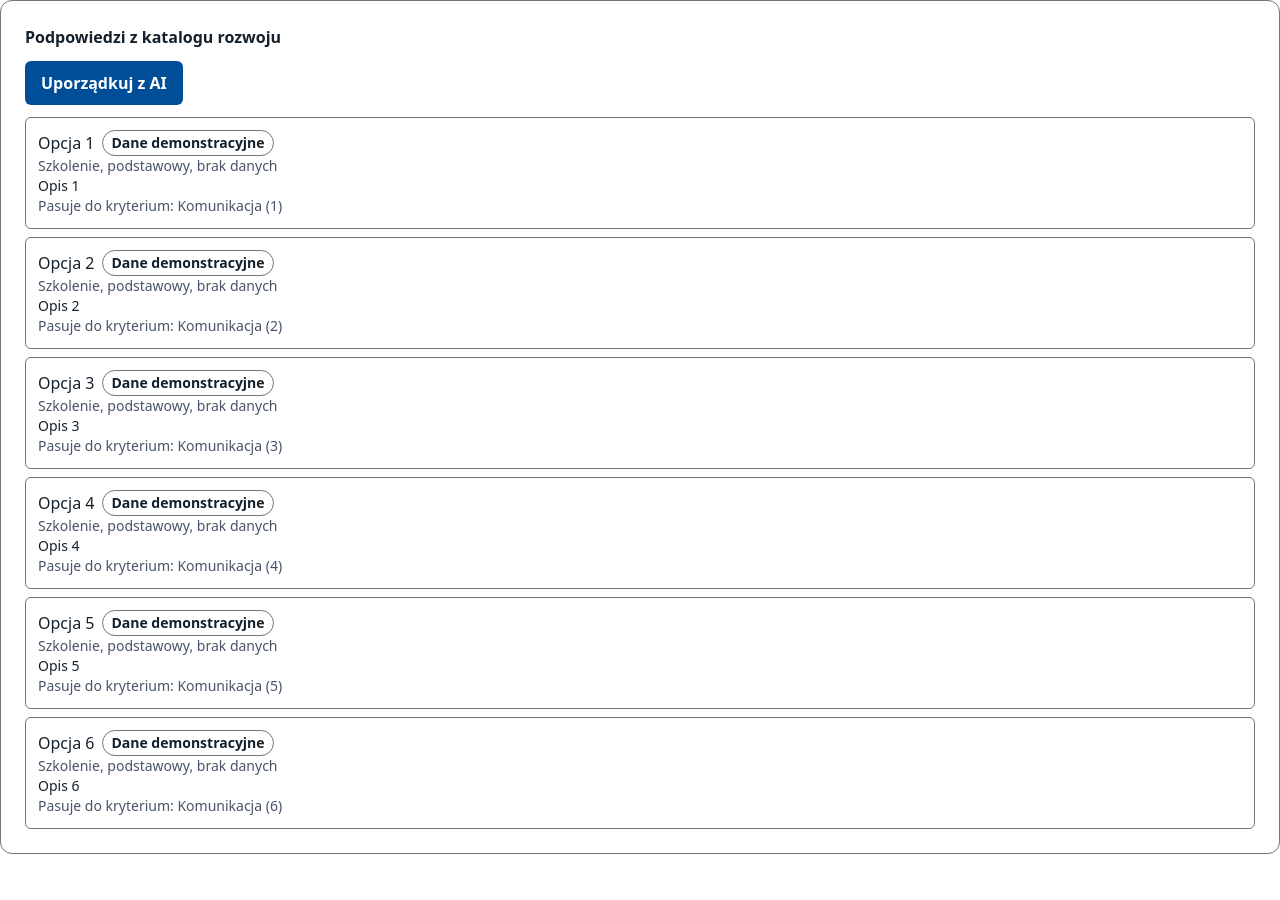
Scenario: DevelopmentSuggestions › keeps the rule list and shows the note when ranking falls back
The width and height of the screenshot is (1280, 900).
Step 1. Click the button "Uporządkuj z AI" → x=104, y=83, box [25, 61, 183, 105]
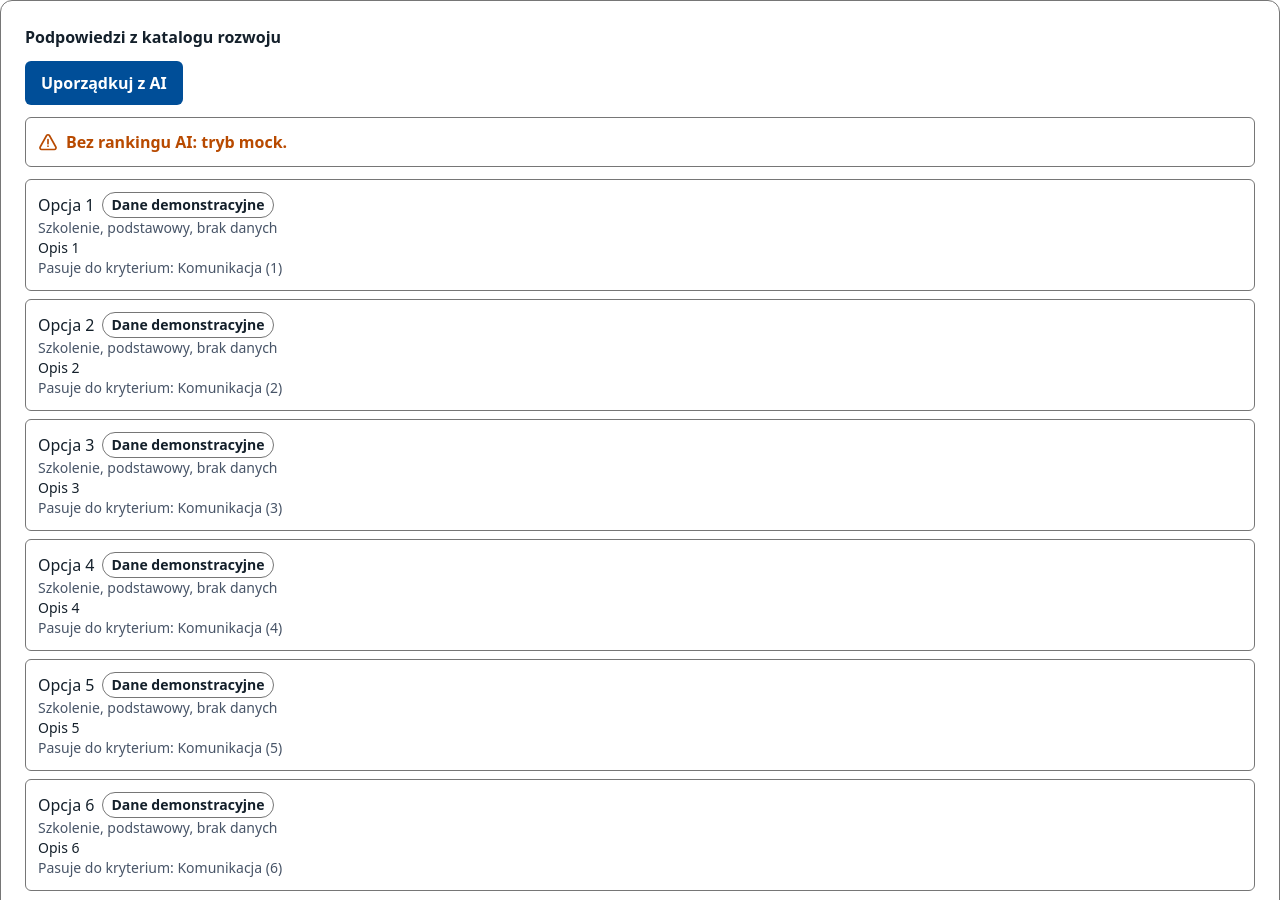
Expected: the text "Opcja 6" is shown, [38, 793, 94, 817]
Now the text "Bez rankingu AI: tryb mock." is shown, box [66, 130, 287, 154]
